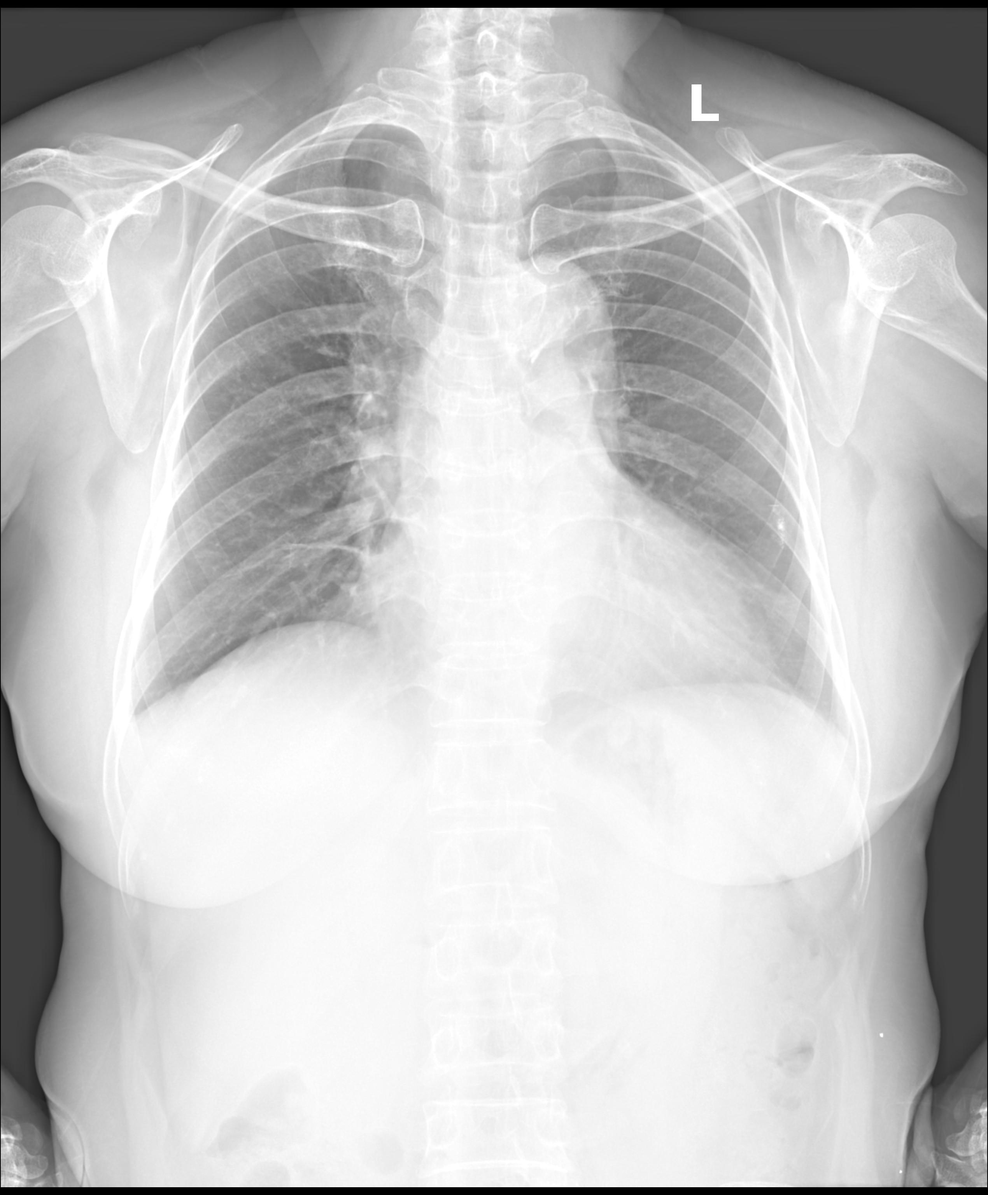Aortic enlargement: (492, 254, 613, 388)
Cardiomegaly: (355, 566, 771, 683)
Pulmonary fibrosis: (282, 538, 365, 557), (769, 497, 785, 548)
